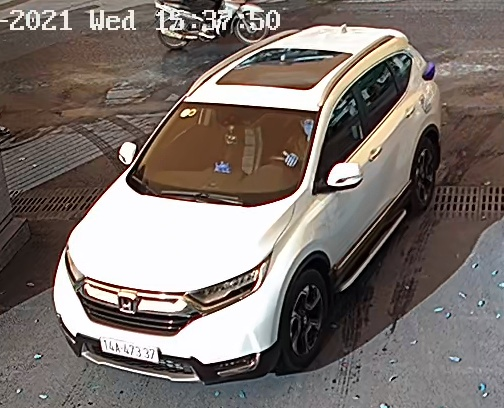vehicle plate: (99, 332, 163, 365)
